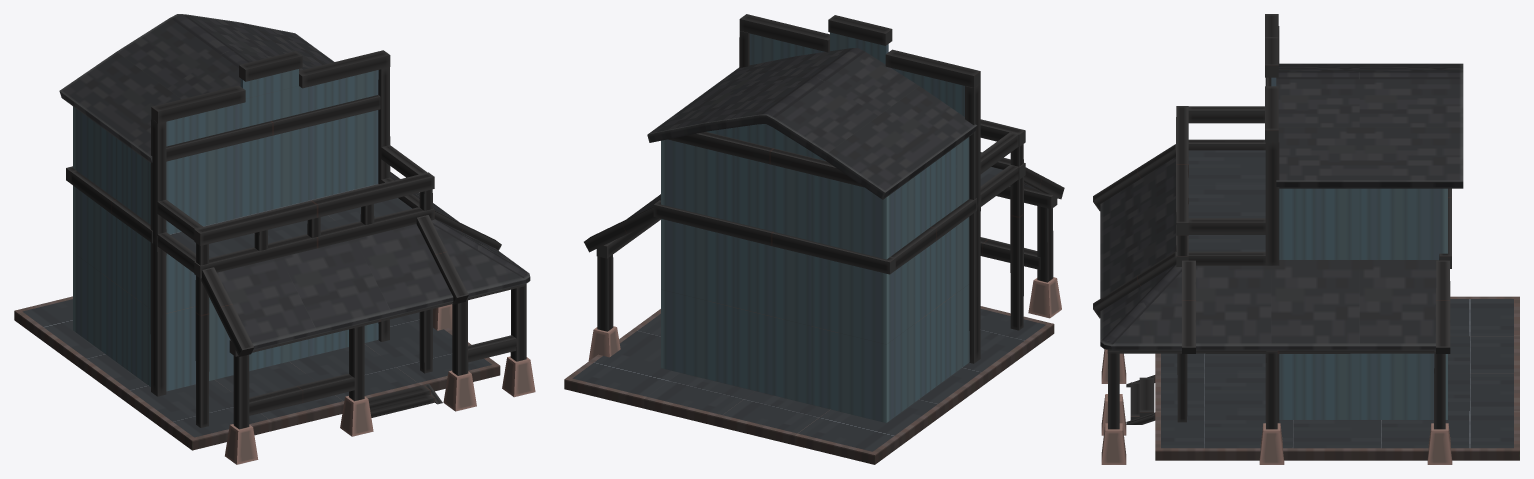
File: house_v3_blank_ncl1_1.fbx
3 views of the same model, side by side, from view 1: azimuth 30°, elevation 25°; view 2: azimuth 150°, elevation 25°; view 3: azimuth 270°, elevation 25° (orthographic). The views are drawn at different scales.
Visible parts, largest first — view 1: house_v3_blank; view 2: house_v3_blank; view 3: house_v3_blank.
Boxes of the visible parts, x1,y1,x2,y2 form: house_v3_blank: [14, 14, 535, 464]; house_v3_blank: [564, 14, 1064, 464]; house_v3_blank: [1093, 14, 1519, 464].
Bounding box in the file's own units: 866 × 808 × 967.
